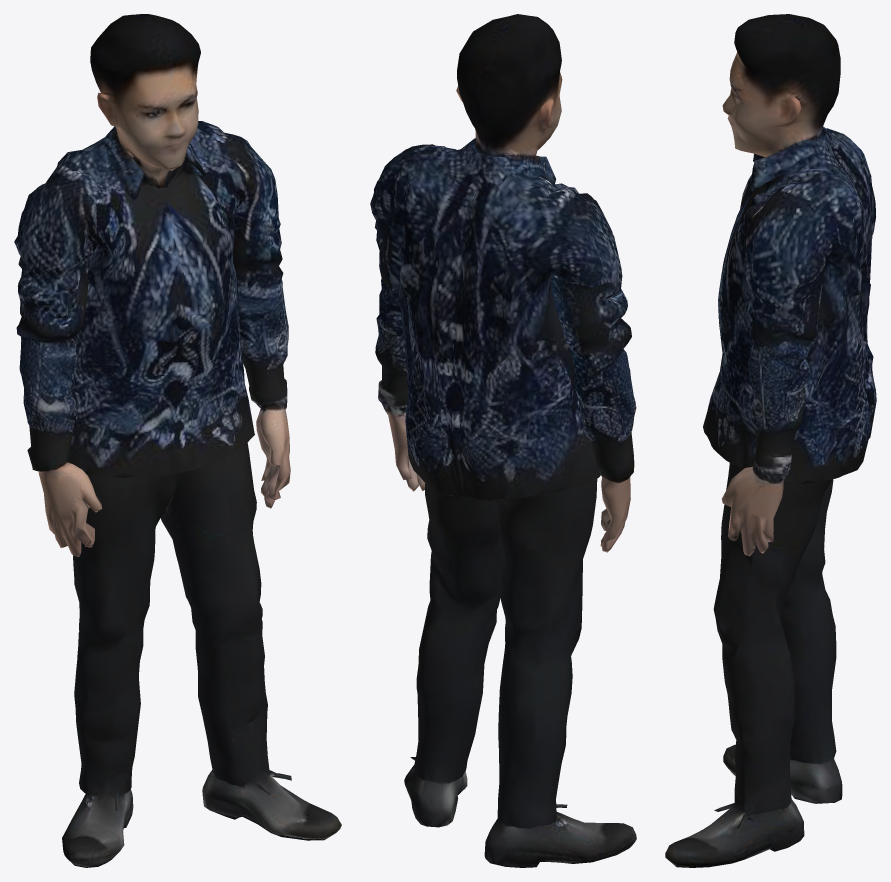
File: cowok_baju_batik_idle.glb
The picture shows the model from 3 angles, left to right: view 1: azimuth 30°, elevation 25°; view 2: azimuth 150°, elevation 25°; view 3: azimuth 270°, elevation 25°; orthographic projection. The views are drawn at different scales.
Parts seen in each view (by area): view 1: tripo_node_08bfa1f2-1b88-47eb-8e07-dc9f3604934f; view 2: tripo_node_08bfa1f2-1b88-47eb-8e07-dc9f3604934f; view 3: tripo_node_08bfa1f2-1b88-47eb-8e07-dc9f3604934f.
Boxes of the visible parts, left/top/right/bottom form: tripo_node_08bfa1f2-1b88-47eb-8e07-dc9f3604934f: left=14, top=14, right=341, bottom=867; tripo_node_08bfa1f2-1b88-47eb-8e07-dc9f3604934f: left=370, top=14, right=636, bottom=867; tripo_node_08bfa1f2-1b88-47eb-8e07-dc9f3604934f: left=665, top=14, right=876, bottom=867.
Size of the model in its own units: 32.56 by 96.92 by 23.56.
Materials: 1 (1 with a texture image).
